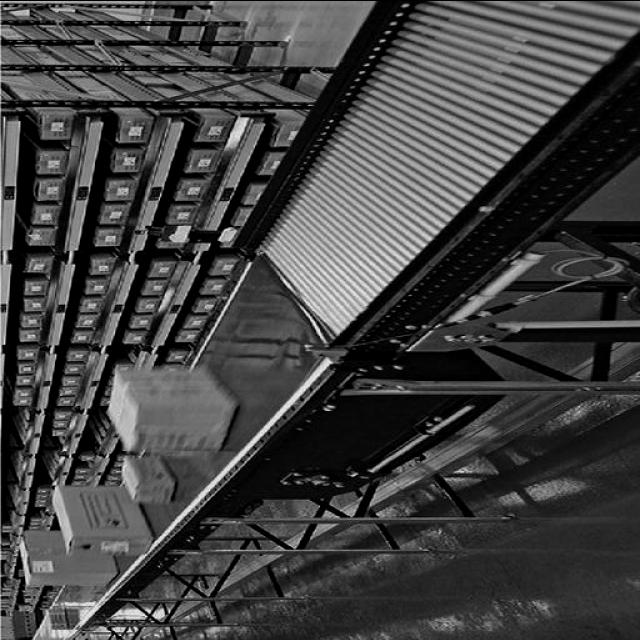conveyor: (30, 0, 640, 640)
